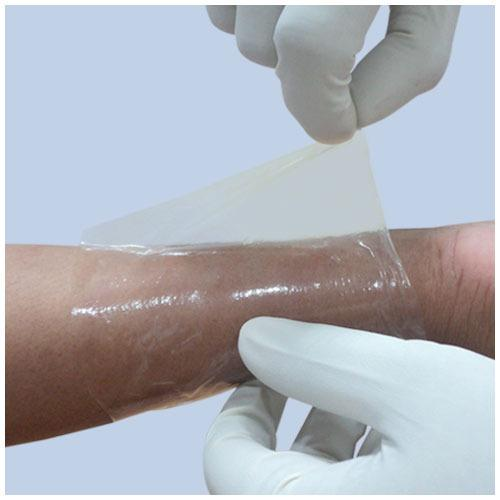bandage: (72, 125, 425, 421)
gloves: (204, 315, 500, 500), (202, 4, 465, 140)
